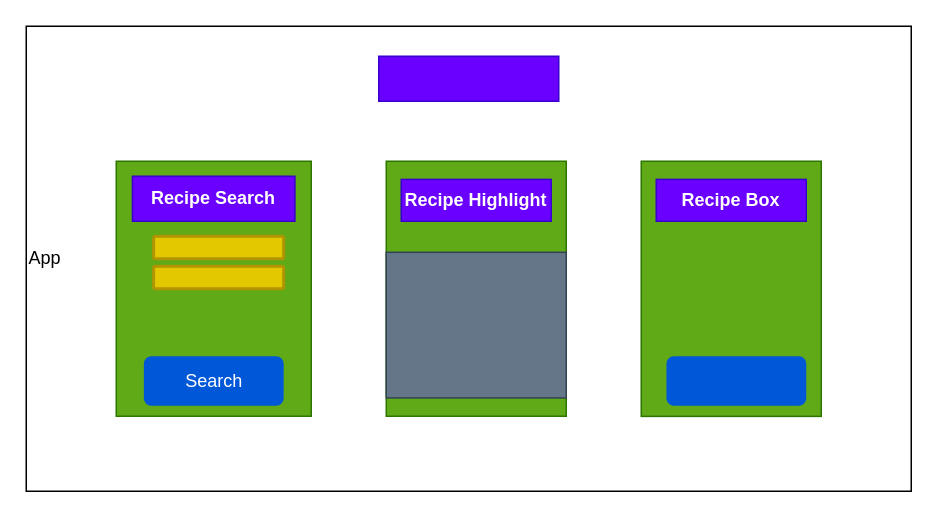
Some shapes in this 938 by 518 pixel diagram are drawn without their labels. Here are the shapes that lost their labels. From the top down, the box of each, then its label:
(377, 55, 559, 101): What's for Dinner?
(385, 251, 566, 398): mac & cheese soup pizza
(666, 356, 806, 405): Add
